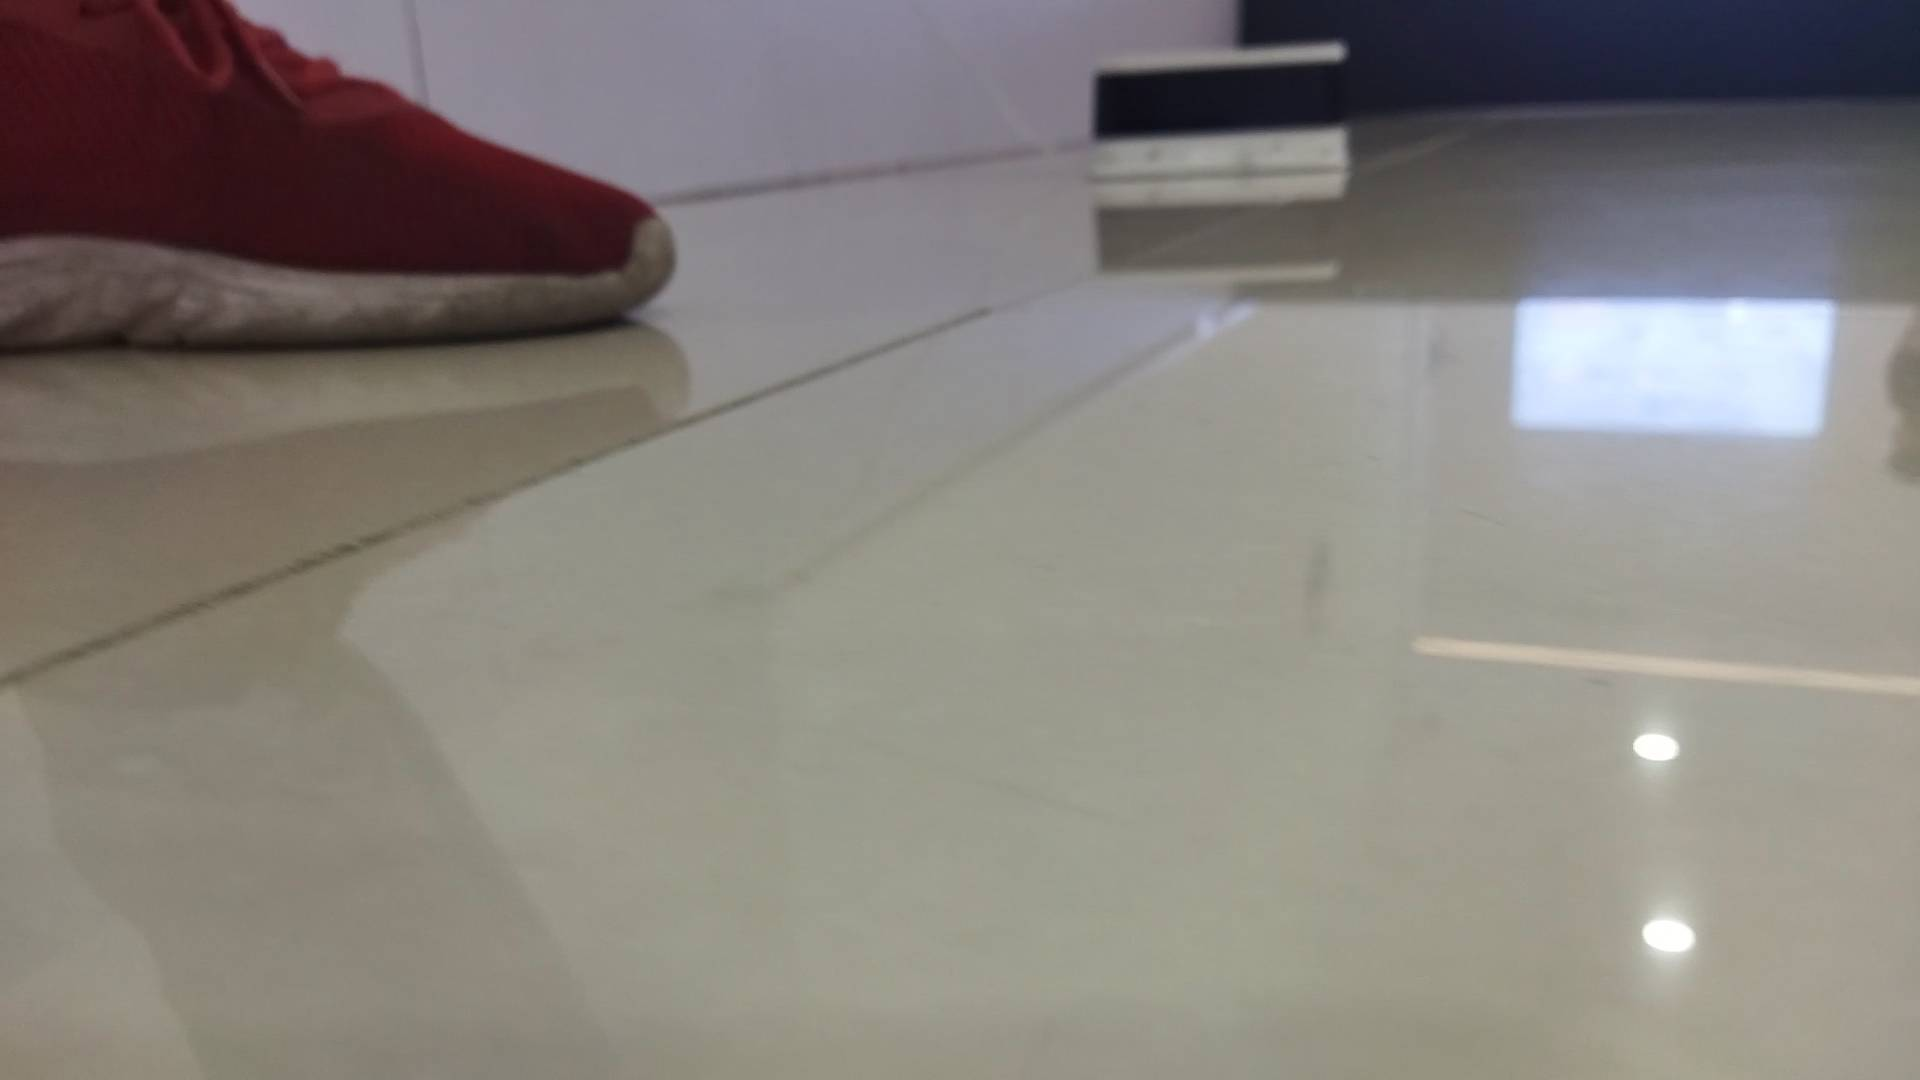recharge seat: (1091, 37, 1356, 179)
